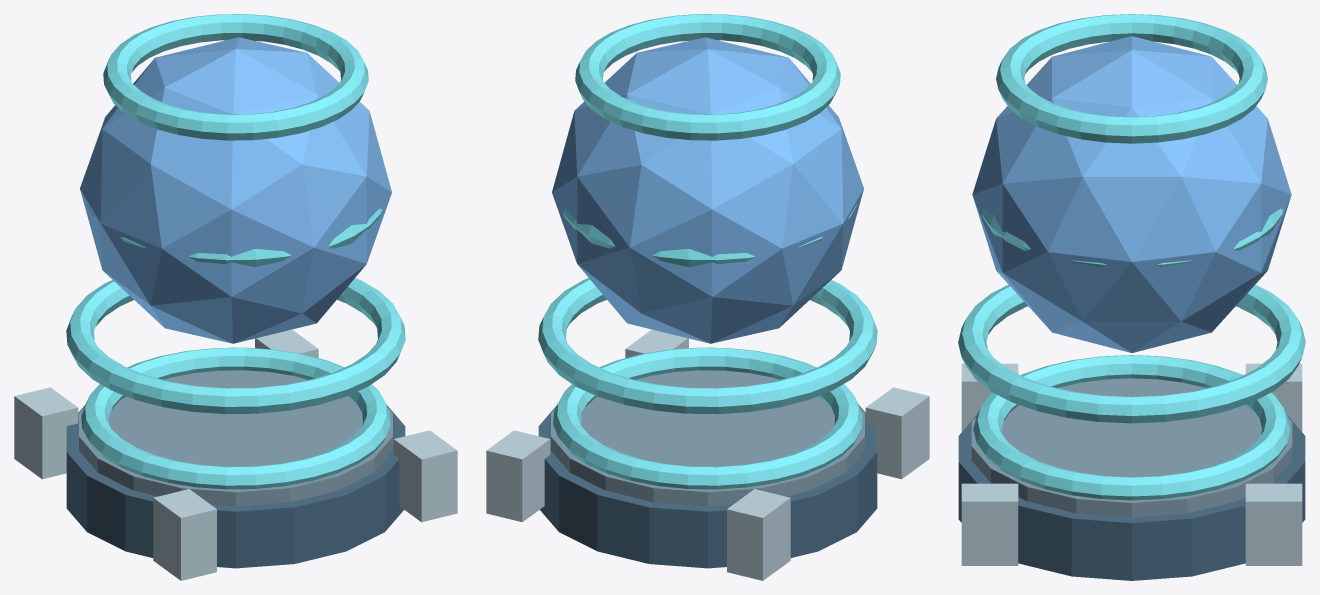
File: aegis_barrier.glb
The picture shows the model from 3 angles, left to right: view 1: azimuth 30°, elevation 25°; view 2: azimuth 150°, elevation 25°; view 3: azimuth 270°, elevation 25°; orthographic projection. The views are drawn at different scales.
Parts seen in each view (by area): view 1: shield_projector_10, armor_ring_1, pedestal_0, shield_ring_9, energy_ring_2, shield_ring_7, bolt_5, bolt_6, bolt_3, shield_ring_8, bolt_4; view 2: shield_projector_10, armor_ring_1, pedestal_0, shield_ring_9, energy_ring_2, shield_ring_7, bolt_3, bolt_4, bolt_5, shield_ring_8, bolt_6; view 3: shield_projector_10, armor_ring_1, pedestal_0, shield_ring_9, energy_ring_2, shield_ring_7, bolt_4, bolt_6, shield_ring_8, bolt_3, bolt_5.
Part boxes in pixels (bbox=[...]): shield_projector_10: bbox=[80, 37, 391, 343]; armor_ring_1: bbox=[79, 370, 392, 506]; pedestal_0: bbox=[66, 404, 405, 568]; shield_ring_9: bbox=[103, 14, 368, 140]; energy_ring_2: bbox=[81, 347, 390, 489]; shield_ring_7: bbox=[66, 278, 405, 414]; bolt_5: bbox=[153, 489, 216, 580]; bolt_6: bbox=[393, 430, 457, 522]; bolt_3: bbox=[14, 387, 78, 479]; shield_ring_8: bbox=[87, 205, 382, 266]; bolt_4: bbox=[255, 329, 318, 357]; shield_projector_10: bbox=[552, 37, 863, 343]; armor_ring_1: bbox=[551, 370, 864, 506]; pedestal_0: bbox=[538, 404, 877, 568]; shield_ring_9: bbox=[575, 14, 840, 140]; energy_ring_2: bbox=[553, 347, 862, 489]; shield_ring_7: bbox=[538, 278, 877, 414]; bolt_3: bbox=[727, 489, 790, 580]; bolt_4: bbox=[486, 430, 550, 522]; bolt_5: bbox=[865, 387, 929, 479]; shield_ring_8: bbox=[561, 205, 856, 266]; bolt_6: bbox=[625, 329, 688, 357]; shield_projector_10: bbox=[972, 36, 1291, 352]; armor_ring_1: bbox=[971, 378, 1292, 517]; pedestal_0: bbox=[958, 415, 1305, 580]; shield_ring_9: bbox=[996, 14, 1267, 143]; energy_ring_2: bbox=[973, 355, 1290, 500]; shield_ring_7: bbox=[958, 284, 1305, 423]; bolt_4: bbox=[1245, 483, 1302, 565]; bolt_6: bbox=[961, 483, 1018, 565]; shield_ring_8: bbox=[980, 208, 1283, 267]; bolt_3: bbox=[1245, 363, 1302, 431]; bolt_5: bbox=[961, 363, 1018, 431].
Bounding box in the file's own units: 0.9916 × 1.42 × 0.98.
